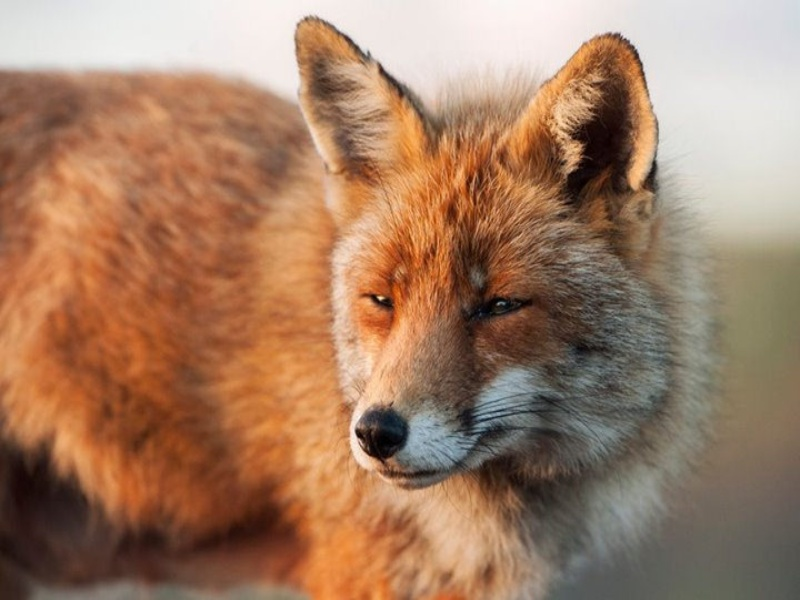fox: (38, 7, 696, 576)
